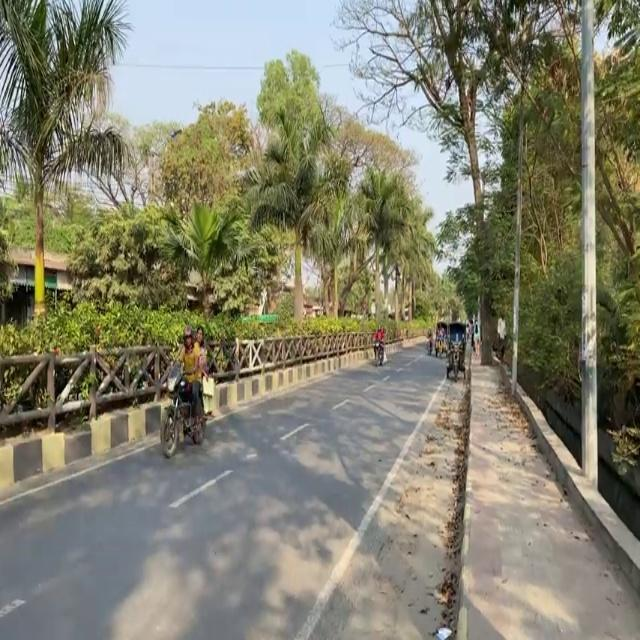Construction-barrier: (432, 336, 474, 639)
Fallen-tree: (158, 363, 211, 458), (444, 339, 466, 381), (433, 334, 445, 357)
Garbage-bin: (177, 331, 207, 436), (372, 325, 386, 362)
Light-pole: (577, 0, 599, 482), (509, 73, 525, 396)
Pothole: (455, 338, 639, 639)
